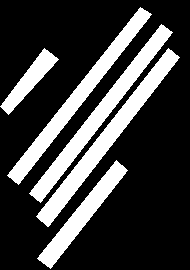parkingspot: (7, 7, 151, 184), (29, 24, 172, 202), (36, 48, 179, 226), (37, 160, 127, 268), (0, 48, 58, 114)
